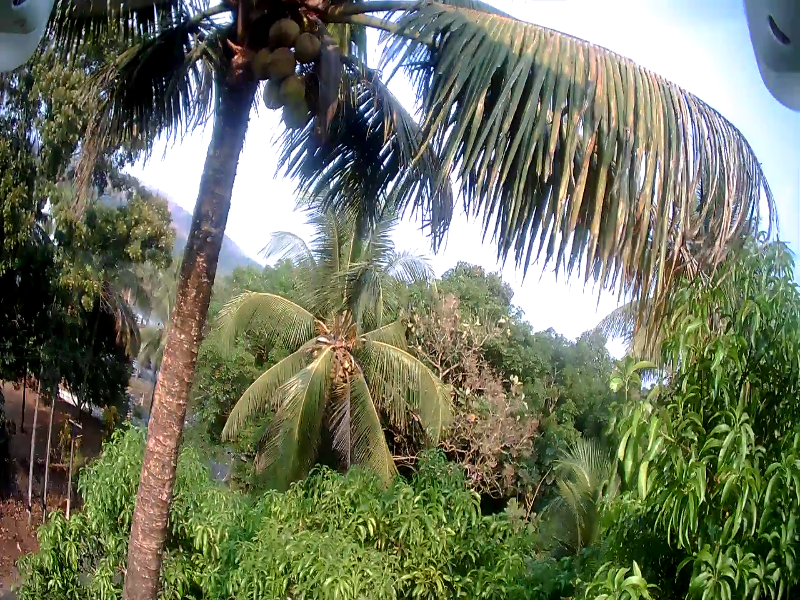coconut: (285, 101, 311, 133), (271, 19, 299, 44), (270, 49, 295, 73), (282, 76, 302, 104), (299, 33, 322, 55), (253, 49, 275, 71), (260, 87, 281, 107)
